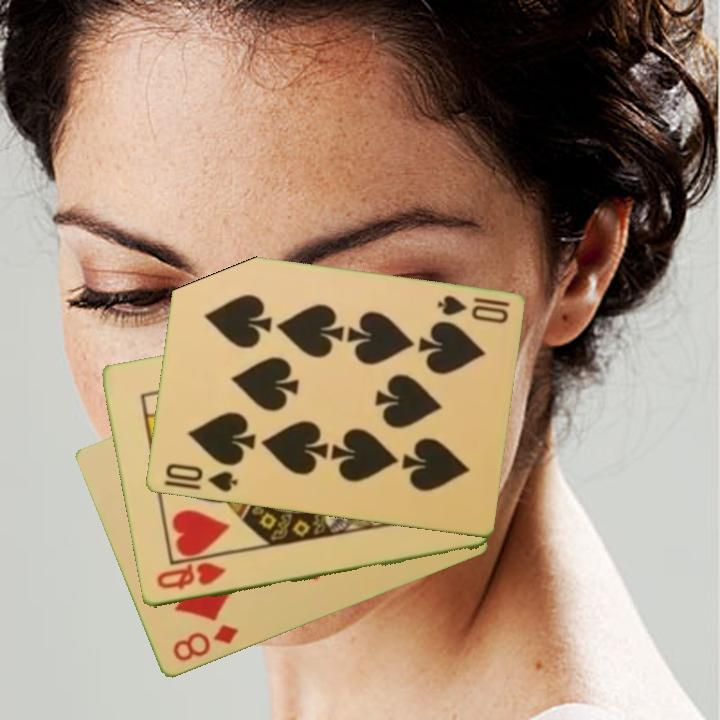10s: (161, 460, 240, 495), (434, 292, 512, 327)
8d: (169, 621, 241, 665)
Qh: (153, 559, 228, 593)
